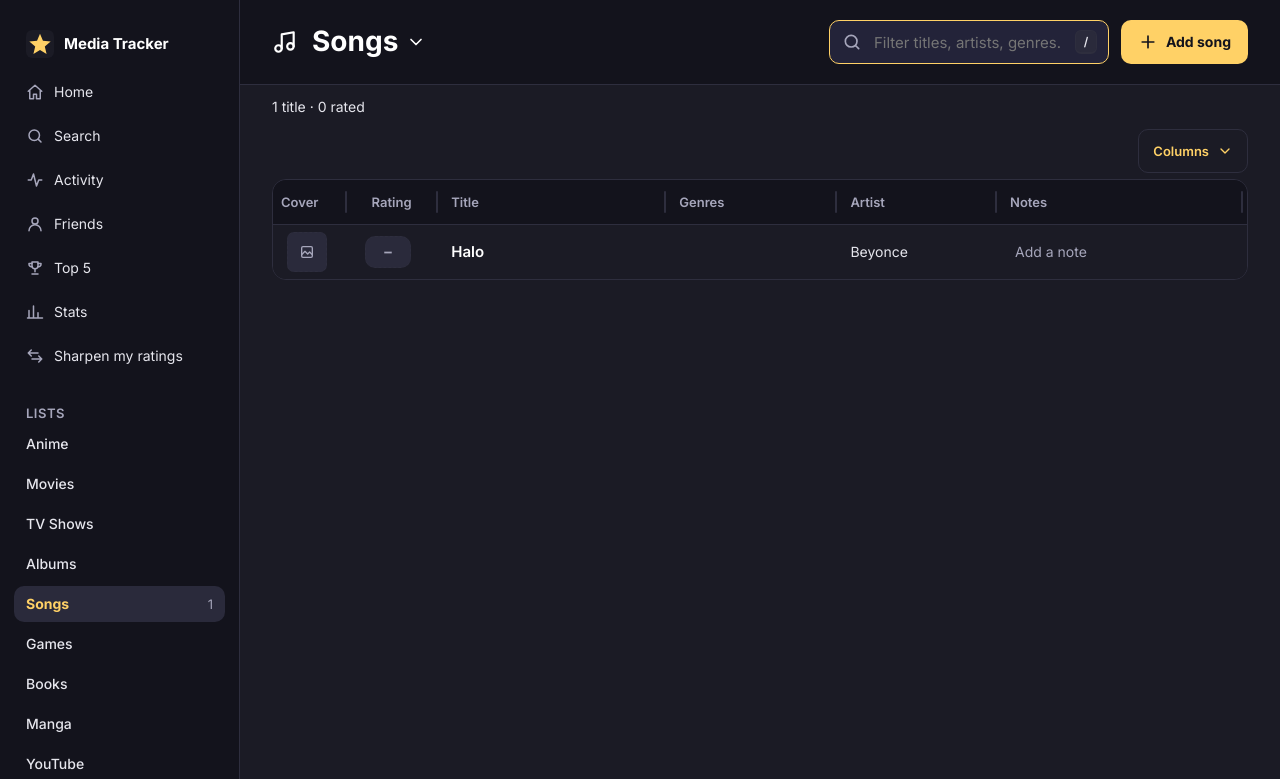
Test: cover viewer: the title's buttons › songs and albums: Open in Spotify and Play preview, no trailer
The image size is (1280, 779).
Hover over the row "– Halo Beyonce Add a note" at (760, 252), box [273,224,1247,279]
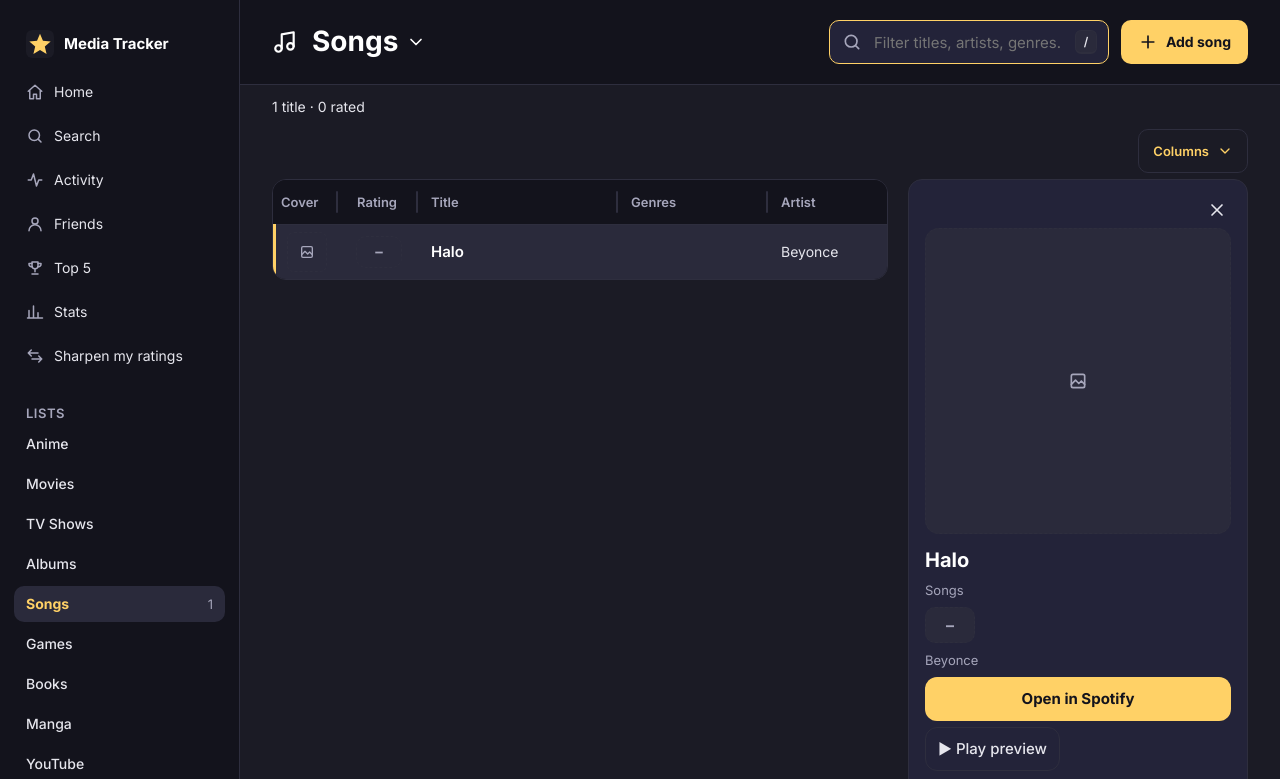
Now the link "Open in Spotify" is shown, box [925,677,1231,721]
Now the button "▶ Play preview" is shown, box [925,727,1060,771]
